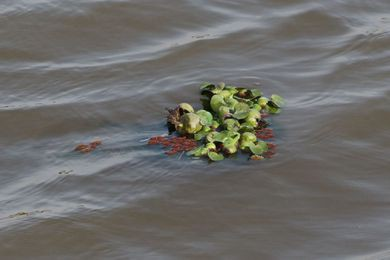water_hyacinth: (167, 76, 284, 164)
